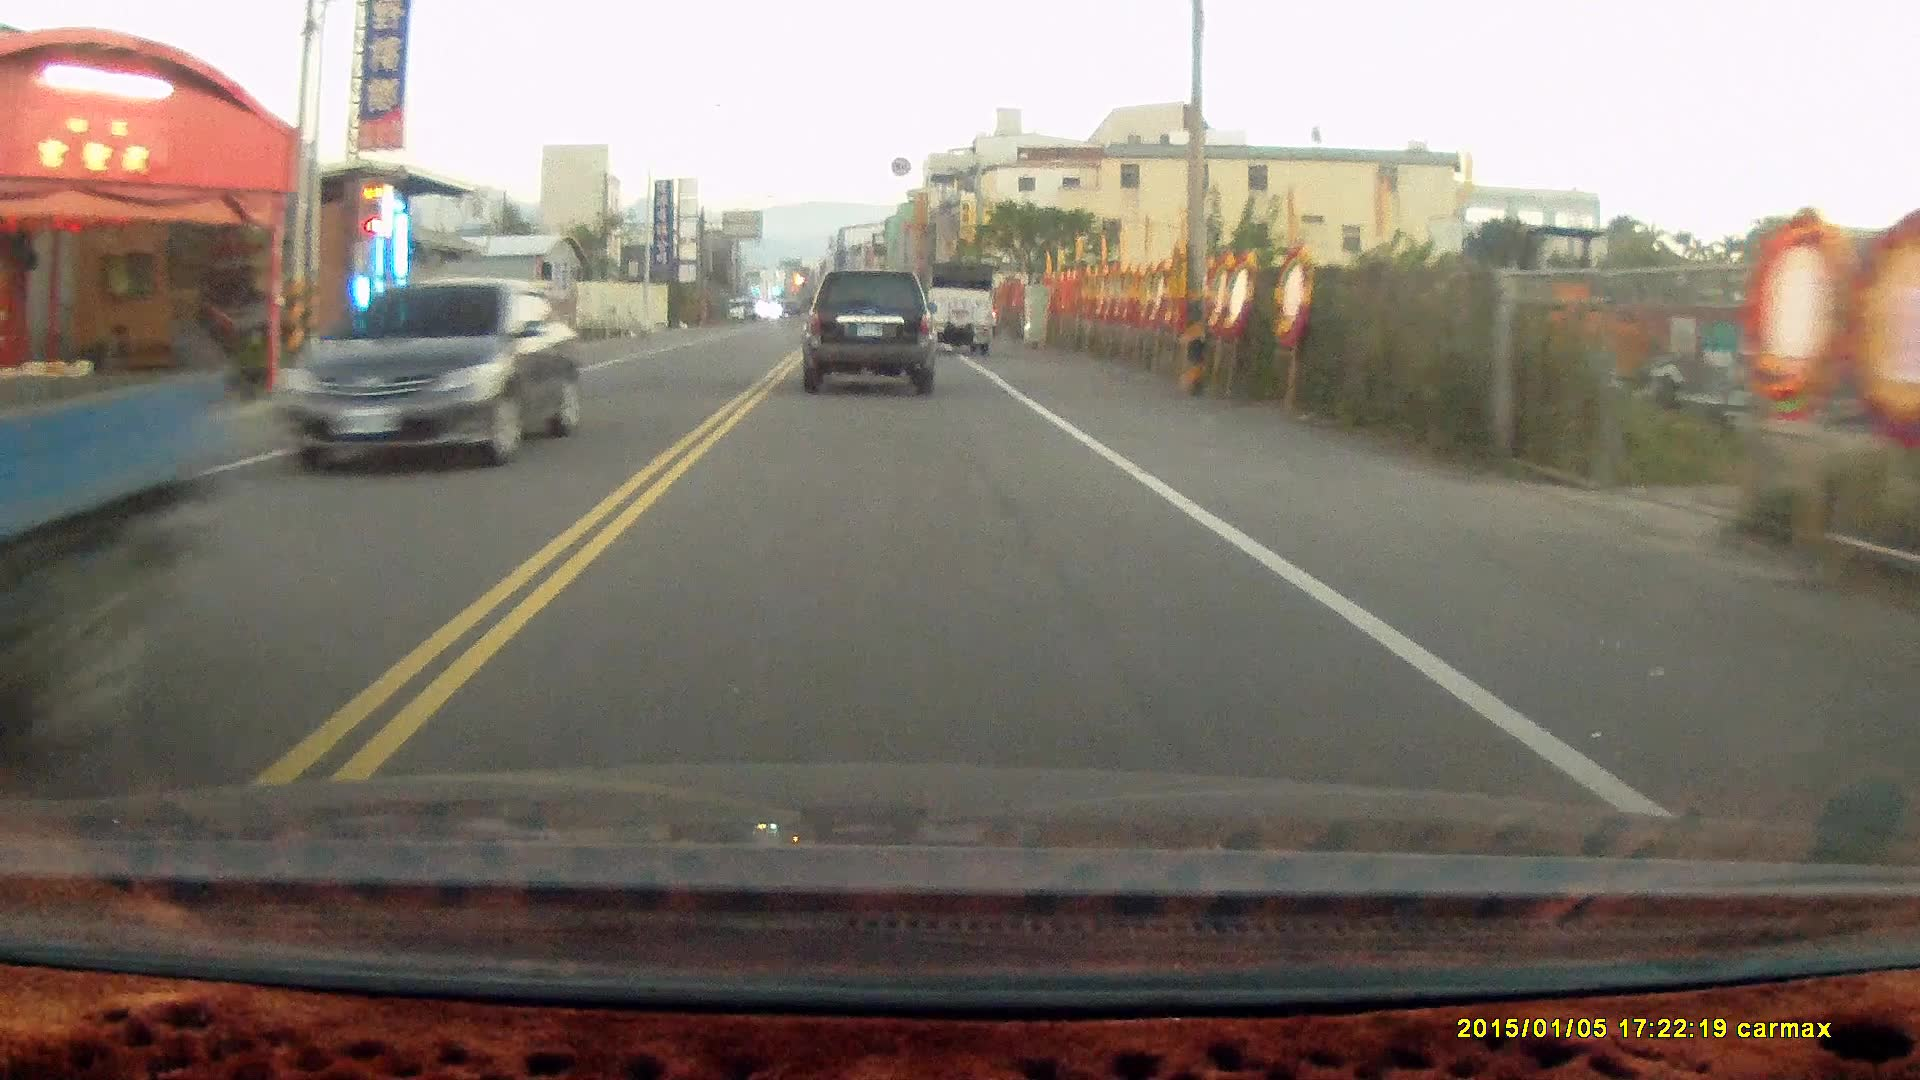vehicle: (1, 160, 231, 781), (282, 280, 585, 477), (802, 269, 938, 400), (926, 260, 1000, 353)
